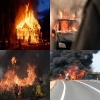fire: (0, 52, 38, 96), (16, 2, 41, 45), (51, 64, 88, 81), (53, 7, 78, 32), (50, 32, 54, 37)
